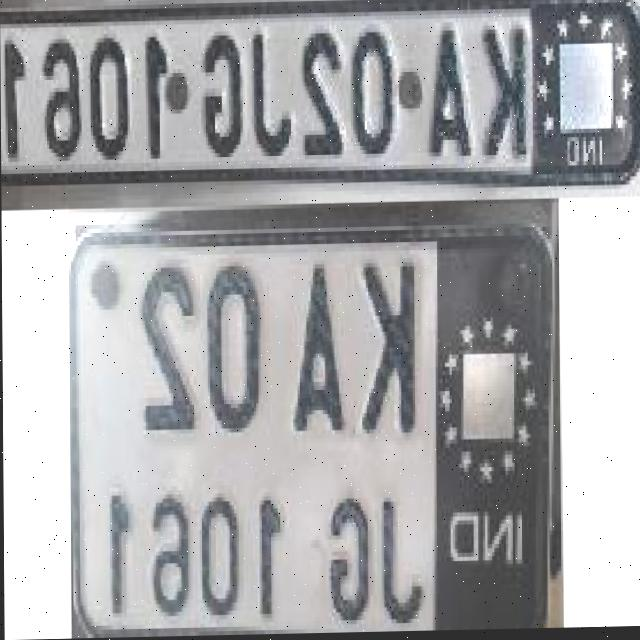plate: (68, 221, 559, 639), (0, 0, 640, 182)
